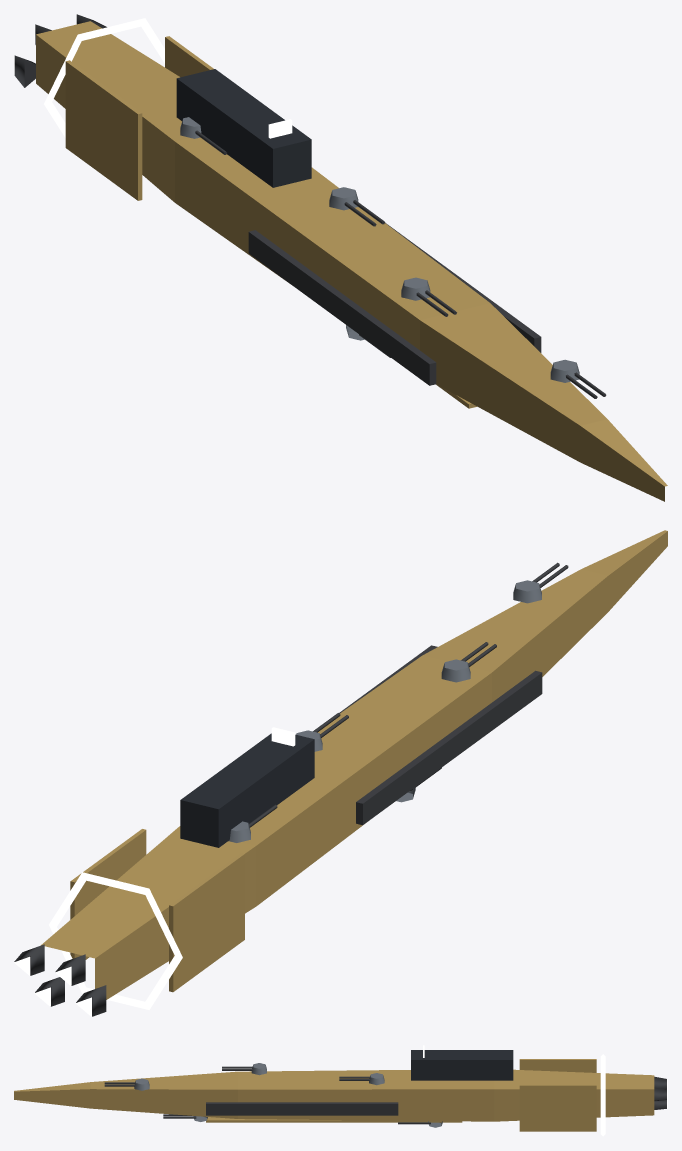
The model's file is space_ship_destroyer_mk7_lod2.glb.
3 renders of one model, top to bottom at view 1: azimuth 30°, elevation 25°; view 2: azimuth 150°, elevation 25°; view 3: azimuth 270°, elevation 25°, orthographic. The views are drawn at different scales.
Visible parts, largest first — view 1: body, turret_0, turret_4, turret_2; view 2: body, turret_2, turret_0; view 3: body, turret_0, turret_4, turret_2, turret_1, engine_3, turret_5.
Part boxes in pixels (bbox=[...]): body: bbox=[36, 18, 667, 501]; turret_0: bbox=[550, 359, 606, 398]; turret_4: bbox=[329, 187, 384, 226]; turret_2: bbox=[401, 277, 456, 316]; body: bbox=[41, 530, 667, 1009]; turret_2: bbox=[441, 642, 496, 682]; turret_0: bbox=[513, 562, 568, 603]; body: bbox=[14, 1045, 654, 1136]; turret_0: bbox=[104, 1078, 149, 1090]; turret_4: bbox=[339, 1073, 384, 1085]; turret_2: bbox=[222, 1063, 266, 1075]; turret_1: bbox=[163, 1114, 207, 1121]; engine_3: bbox=[654, 1087, 667, 1101]; turret_5: bbox=[398, 1121, 442, 1127].
Size of the model in its own units: 9.8 by 10.39 by 77.3.
